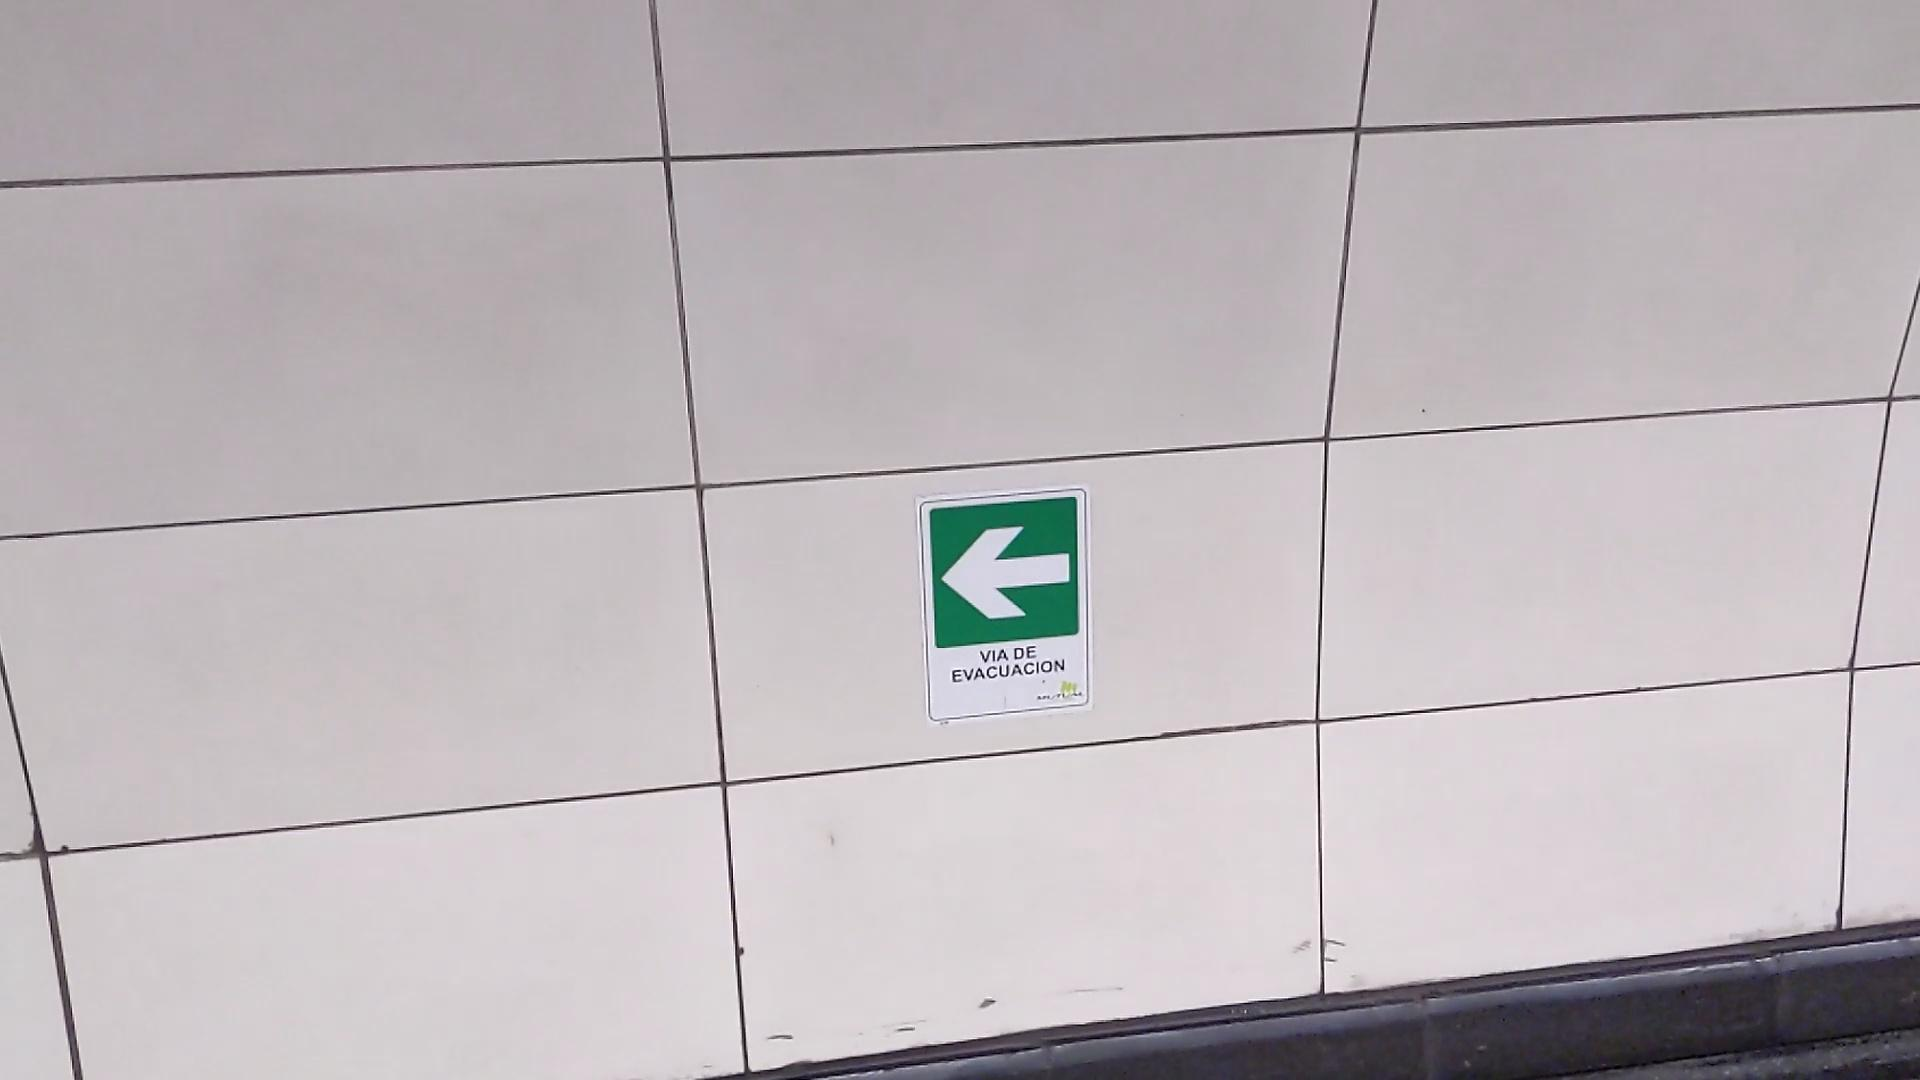emergency left arrow: (940, 524, 1073, 621)
